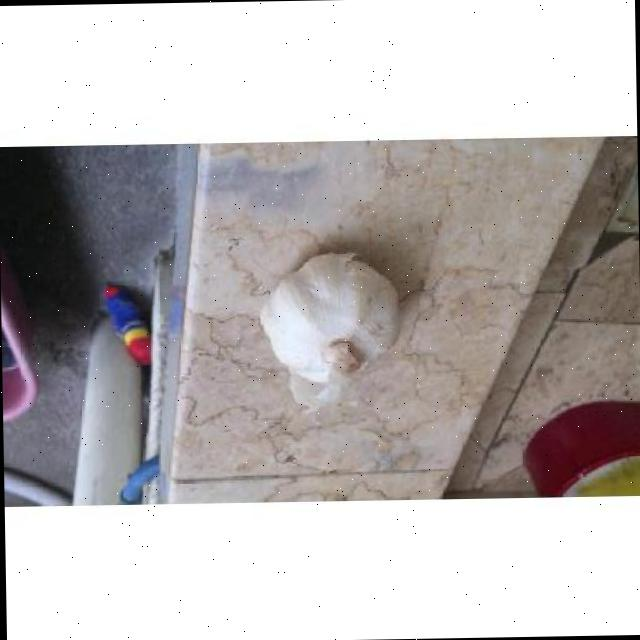garlic: (259, 253, 398, 406)
